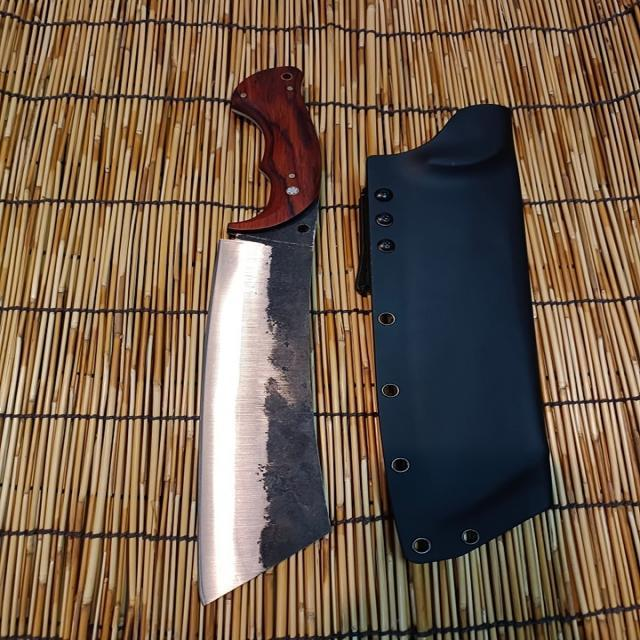eto: (189, 48, 342, 612)
